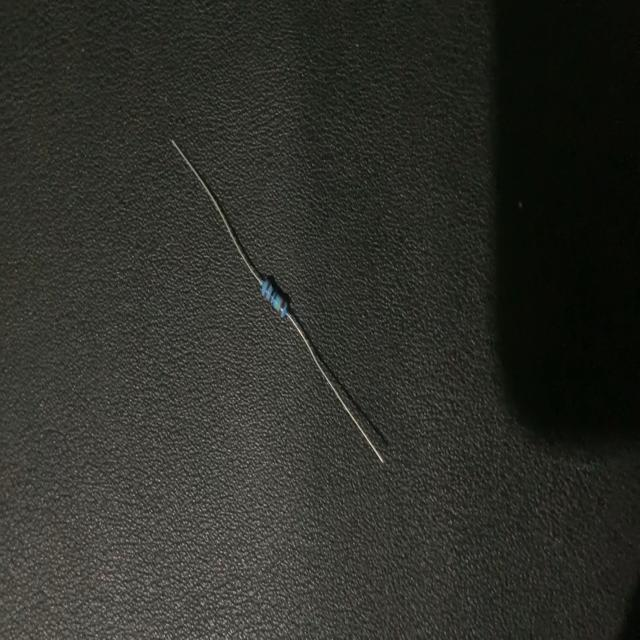resistor: (172, 140, 385, 467)
